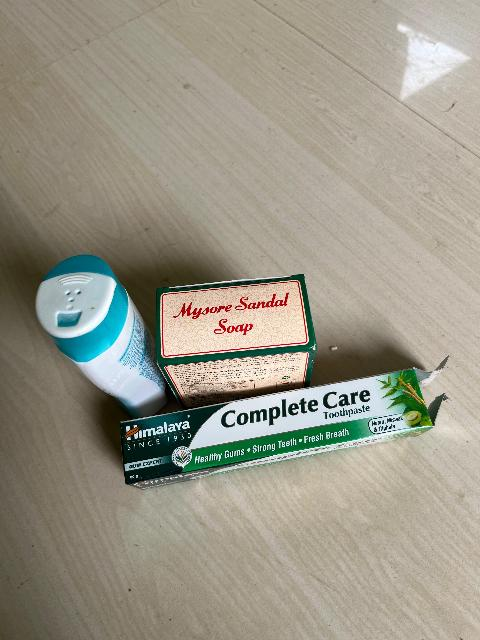boroplus: (10, 272, 162, 413)
himalaya toothpaste: (119, 389, 410, 484)
mysore sandal soap: (156, 275, 325, 387)
